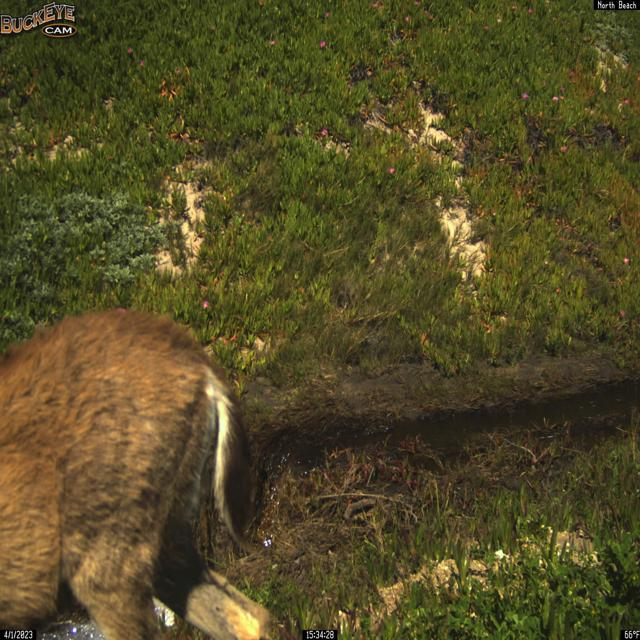deer: (0, 307, 279, 640)
